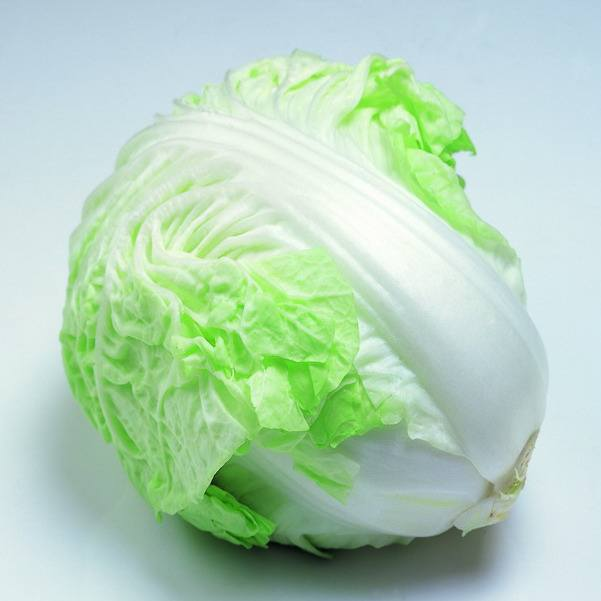baicai: (59, 46, 548, 548)
